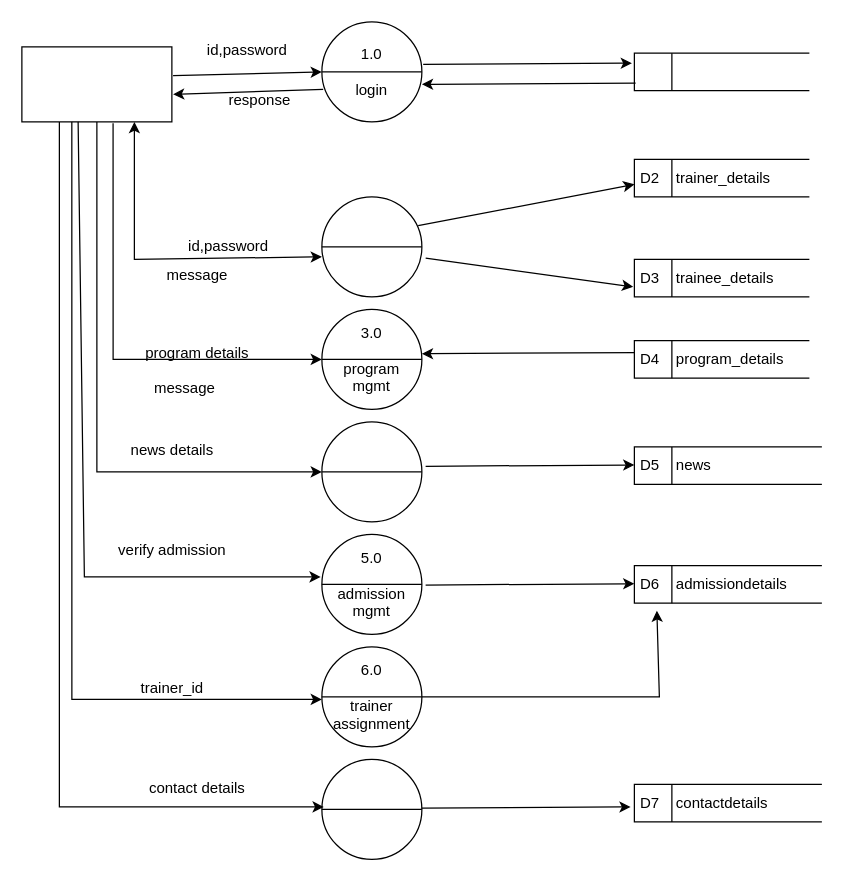
Some shapes in this 844 by 881 pixel diagram are drawn without their labels. The box of each missing label's shape, as (x1, y1, x2, y2) in pixels:
2.0 account mgmt: (321, 196, 422, 297)
4.0 news mgmt: (321, 421, 422, 522)
7.0 contact: (321, 758, 422, 859)
Admin: (21, 46, 172, 122)
D1 admin_details: (633, 52, 809, 91)
